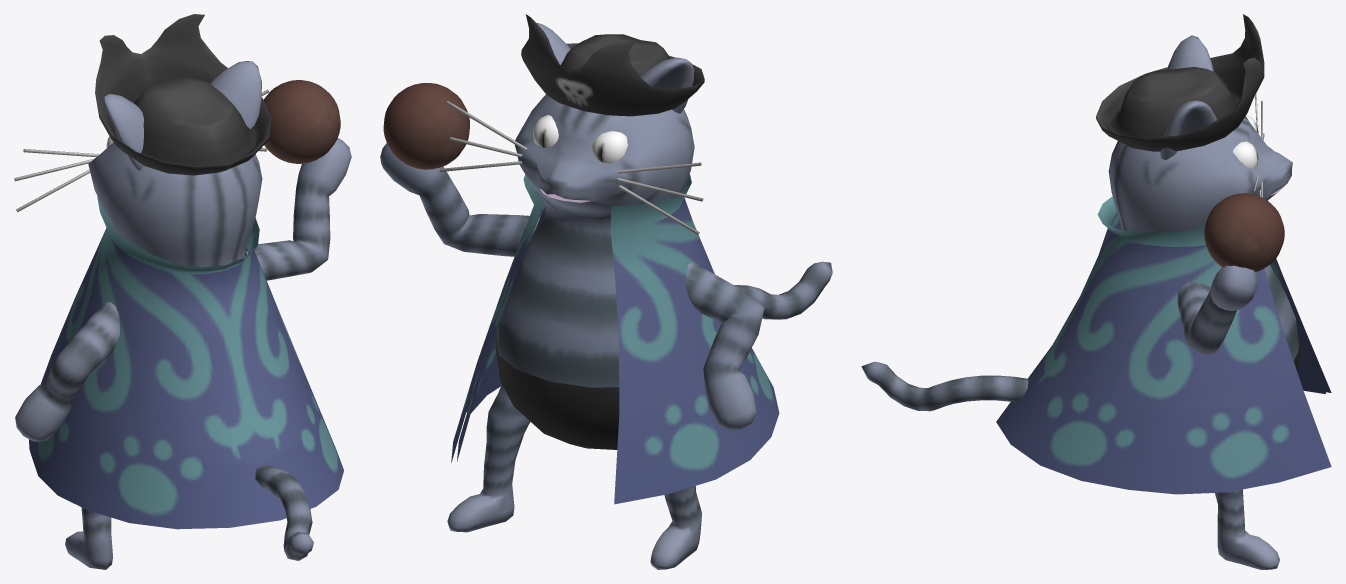
Rendered from neko_idle_b_04.fbx.
The picture shows the model from 3 angles, left to right: view 1: azimuth 30°, elevation 25°; view 2: azimuth 150°, elevation 25°; view 3: azimuth 270°, elevation 25°; orthographic projection. The views are drawn at different scales.
Visible parts, largest first — view 1: I_b_04; view 2: I_b_04; view 3: I_b_04.
Part boxes in pixels (<box>): I_b_04: <box>14,14,351,569</box>; I_b_04: <box>380,14,832,569</box>; I_b_04: <box>861,14,1331,569</box>.
Bounding box in the file's own units: 1.38 × 1.93 × 1.7.
Materials: 1 (1 with a texture image).
